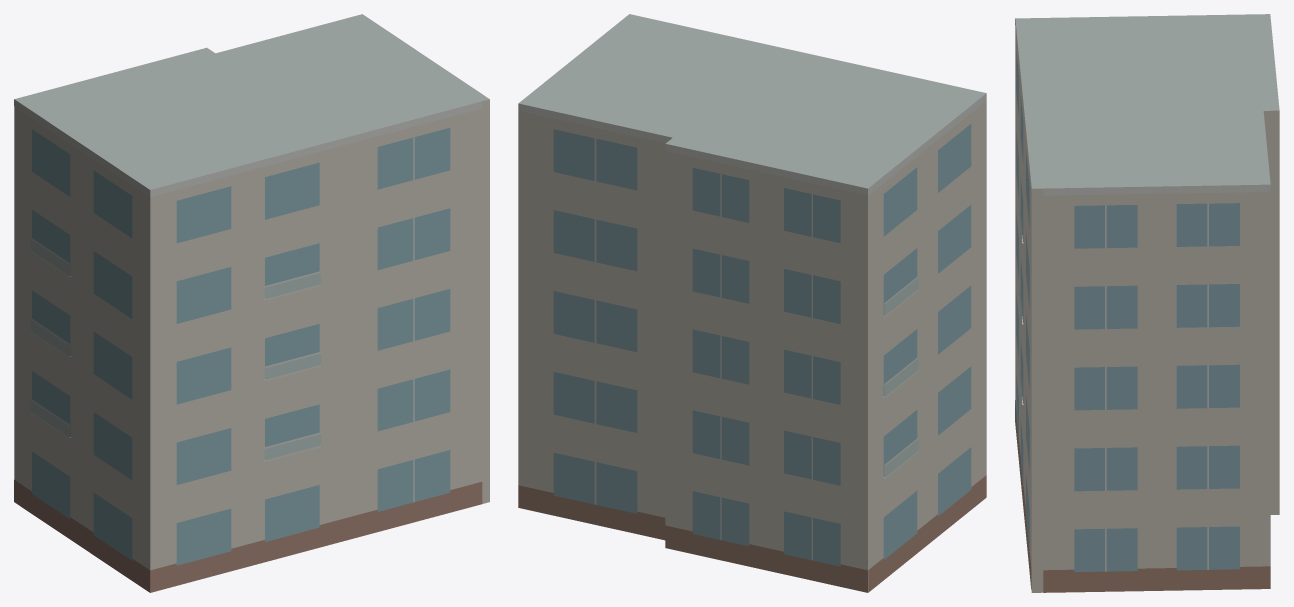
Rendered from survey-upis-32985415.glb.
3 views of the same model, side by side, from view 1: azimuth 30°, elevation 25°; view 2: azimuth 150°, elevation 25°; view 3: azimuth 270°, elevation 25° (orthographic).
Visible parts, largest first — view 1: survey-upis-32985415.tmp; view 2: survey-upis-32985415.tmp; view 3: survey-upis-32985415.tmp.
Boxes of the visible parts, <box> form: survey-upis-32985415.tmp: <box>14,14,489,592</box>; survey-upis-32985415.tmp: <box>518,14,986,592</box>; survey-upis-32985415.tmp: <box>1015,14,1279,592</box>.
Bounding box in the file's own units: 12.79 × 13.8 × 8.19.
